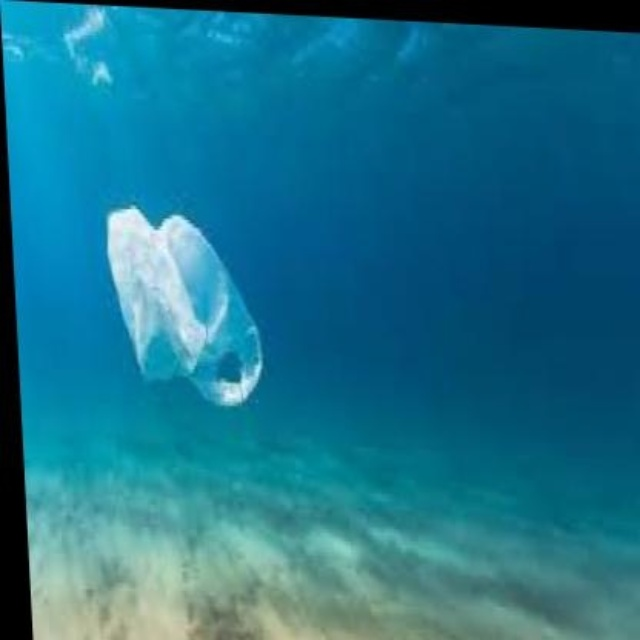trash: (108, 208, 262, 405)
